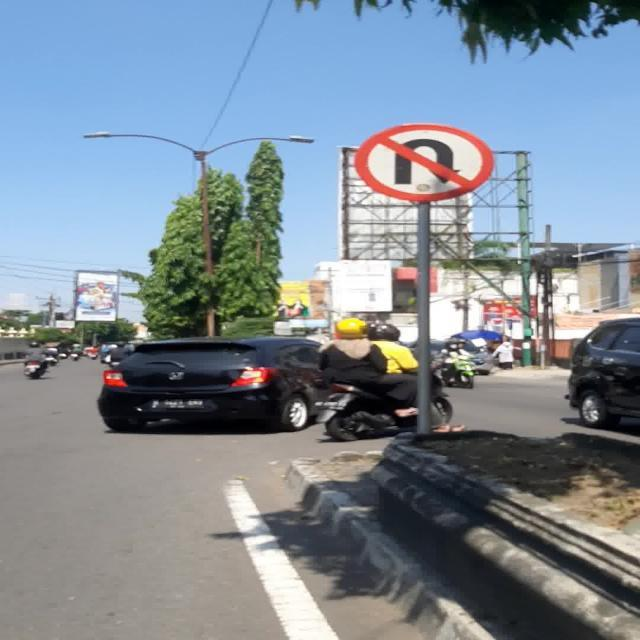Dilarang Putar Balik: (355, 124, 495, 202)
